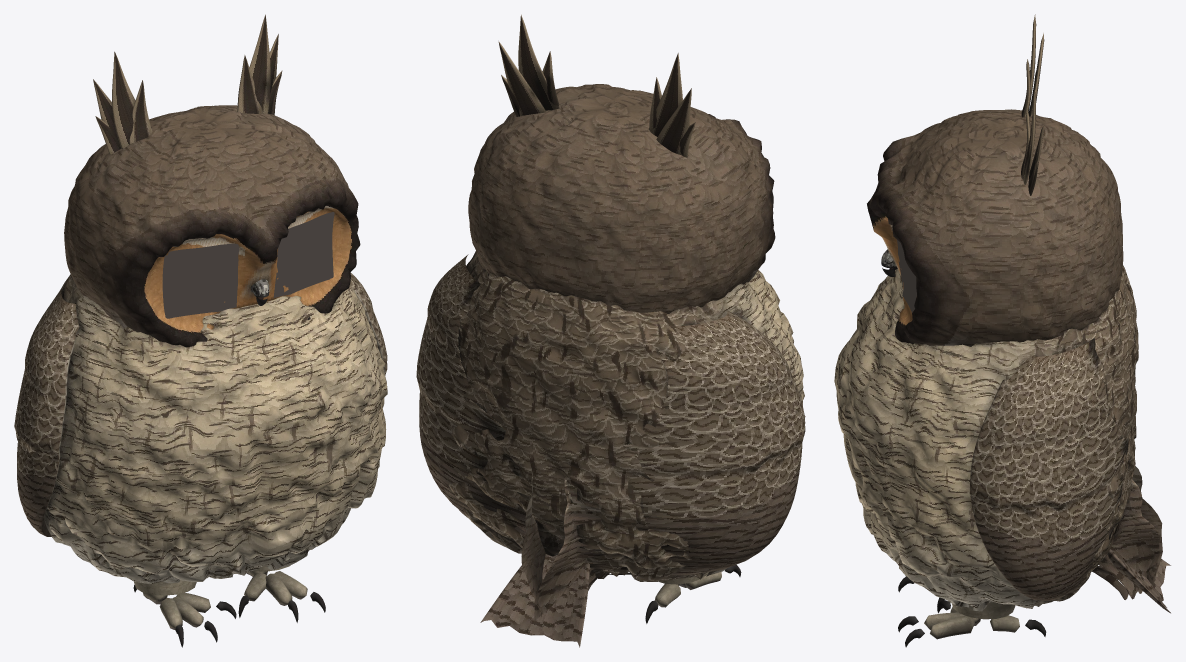
Rendered from horned.glb.
The picture shows the model from 3 angles, left to right: view 1: azimuth 30°, elevation 25°; view 2: azimuth 150°, elevation 25°; view 3: azimuth 270°, elevation 25°; orthographic projection. The views are drawn at different scales.
Visible parts, largest first — view 1: body_mesh, head_mesh, wing_l_mesh, eye_l, eye_r, tuft_l0_mesh, tuft_r0_mesh, wing_r_mesh, tuft_r2_mesh, tuft_l2_mesh, leg_l_mesh, tuft_l1_mesh (+1 smaller); view 2: head_mesh, body_mesh, wing_l_mesh, wing_r_mesh, tail_mesh, tuft_r0_mesh, tuft_r1_mesh, tuft_l0_mesh, tuft_l1_mesh; view 3: head_mesh, body_mesh, wing_r_mesh, tail_mesh, wing_l_mesh, leg_rt0_mesh, eye_r, leg_r_mesh.
Part boxes in pixels (x1,y1,x2,y2): body_mesh: (44, 274, 387, 583); head_mesh: (64, 105, 360, 347); wing_l_mesh: (14, 286, 79, 536); eye_l: (162, 244, 239, 318); eye_r: (273, 212, 334, 297); tuft_l0_mesh: (112, 51, 152, 149); tuft_r0_mesh: (237, 14, 270, 113); wing_r_mesh: (350, 273, 387, 375); tuft_r2_mesh: (237, 55, 262, 113); tuft_l2_mesh: (129, 80, 151, 144); leg_l_mesh: (134, 580, 196, 595); tuft_l1_mesh: (93, 79, 118, 138); head_mesh: (468, 84, 775, 313); body_mesh: (448, 251, 805, 581); wing_l_mesh: (534, 310, 805, 621); wing_r_mesh: (416, 254, 545, 617); tail_mesh: (480, 554, 590, 647); tuft_r0_mesh: (518, 14, 560, 110); tuft_r1_mesh: (498, 41, 546, 116); tuft_l0_mesh: (648, 53, 682, 136); tuft_l1_mesh: (656, 88, 691, 155); head_mesh: (867, 109, 1123, 346); body_mesh: (834, 265, 1138, 611); wing_r_mesh: (970, 338, 1160, 600); tail_mesh: (1107, 549, 1170, 613); wing_l_mesh: (1132, 442, 1162, 586); leg_rt0_mesh: (930, 615, 974, 639); eye_r: (897, 240, 916, 312); leg_r_mesh: (952, 601, 1015, 619).
Size of the model in its own units: 36.6 by 54.22 by 29.54.
2 materials, 1 textured.
